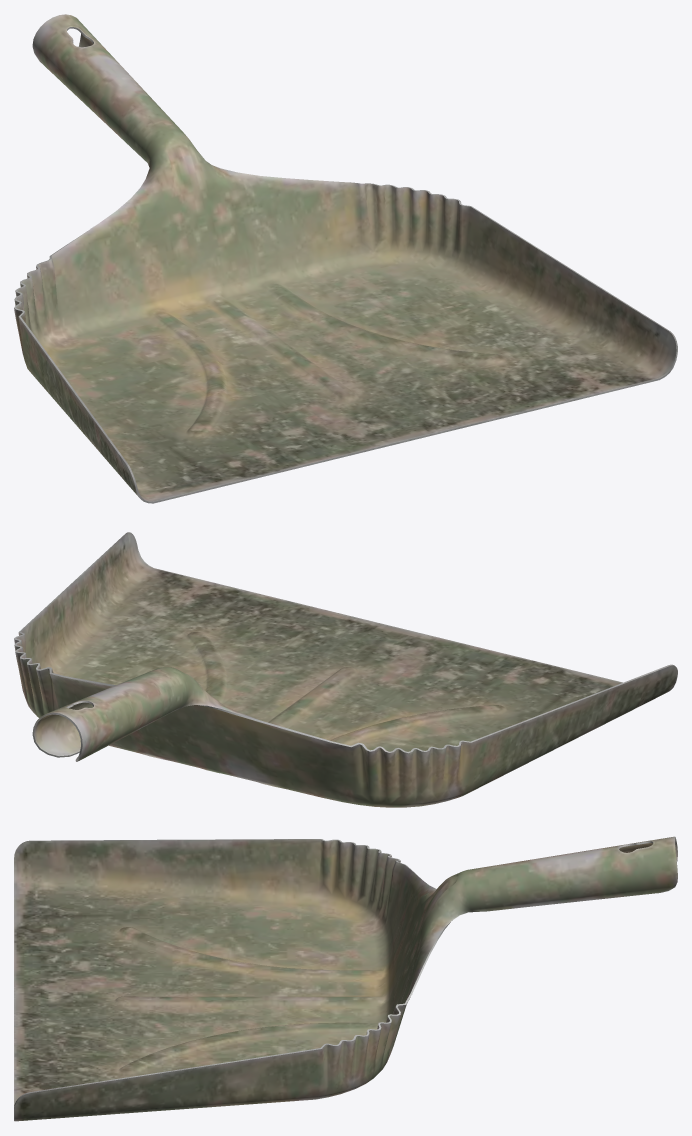
Rendered from dustpan.glb.
3 renders of one model, top to bottom at view 1: azimuth 30°, elevation 25°; view 2: azimuth 150°, elevation 25°; view 3: azimuth 270°, elevation 25°, orthographic. The views are drawn at different scales.
Visible parts, largest first — view 1: dustpan; view 2: dustpan; view 3: dustpan.
Boxes of the visible parts, bbox=[...] form: dustpan: bbox=[14, 14, 677, 503]; dustpan: bbox=[14, 532, 677, 807]; dustpan: bbox=[14, 836, 677, 1121].
Size of the model in its own units: 0.3321 by 0.1003 by 0.368.
1 material, 1 textured.
